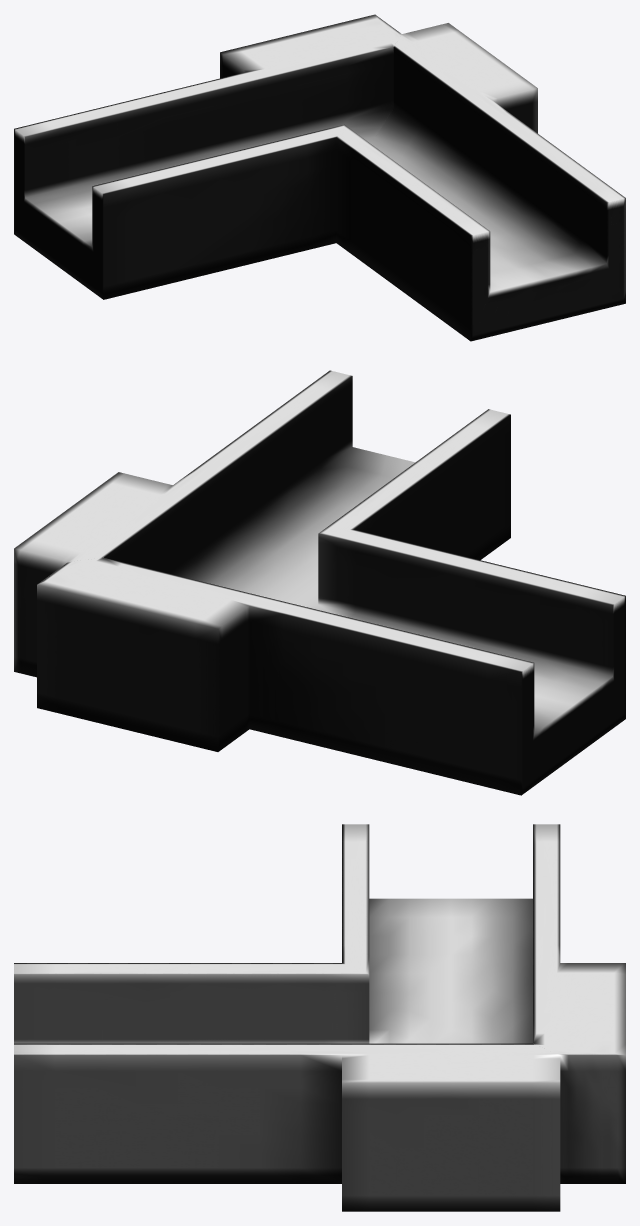
The picture shows the model from 3 angles, top to bottom: view 1: azimuth 30°, elevation 25°; view 2: azimuth 150°, elevation 25°; view 3: azimuth 270°, elevation 25°; orthographic projection. The views are drawn at different scales.
Visible parts, largest first — view 1: defaultobject; view 2: defaultobject; view 3: defaultobject.
Boxes of the visible parts, box(x1,y1,x2,y2) form: defaultobject: box(14, 14, 625, 341); defaultobject: box(14, 370, 625, 795); defaultobject: box(14, 824, 625, 1211).
Bounding box in the file's own units: 0.7 × 0.1625 × 0.7.
Materials: 1 (1 with a texture image).
